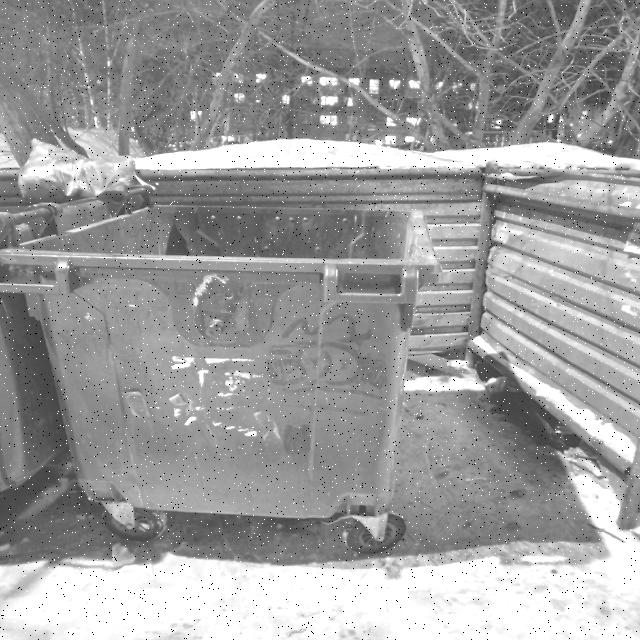Trashcan: (0, 151, 503, 563)
